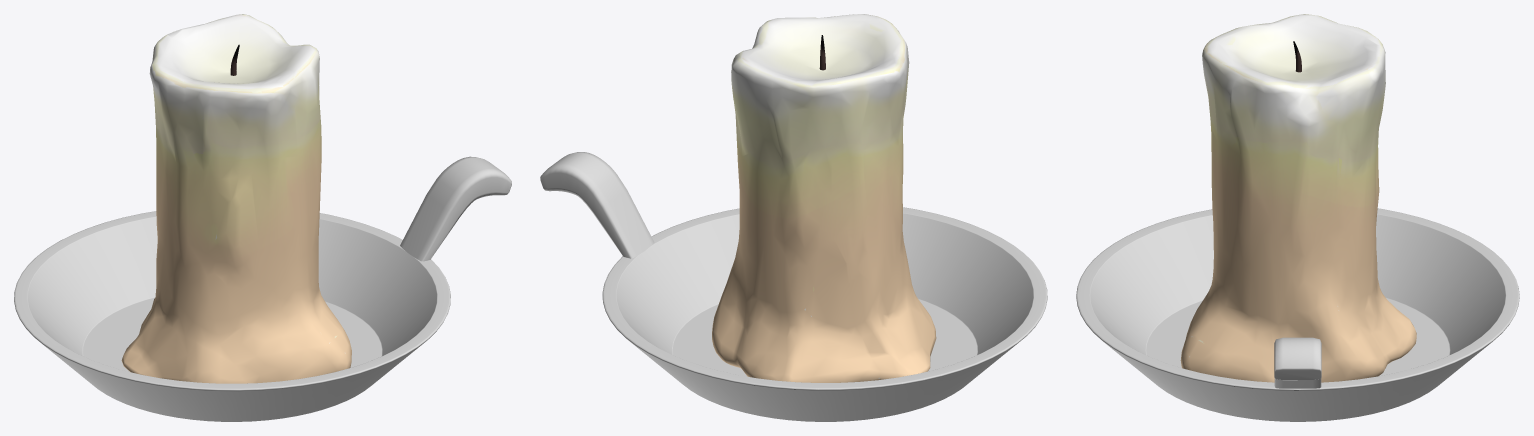
Rendered from candle.fbx.
3 views of the same model, side by side, from view 1: azimuth 30°, elevation 25°; view 2: azimuth 150°, elevation 25°; view 3: azimuth 270°, elevation 25° (orthographic).
Visible parts, largest first — view 1: Candle; view 2: Candle; view 3: Candle.
Boxes of the visible parts, left/top/right/bottom form: Candle: left=14, top=14, right=511, bottom=421; Candle: left=540, top=14, right=1047, bottom=421; Candle: left=1076, top=14, right=1519, bottom=421.
Size of the model in its own units: 13.11 by 8.54 by 10.82.
